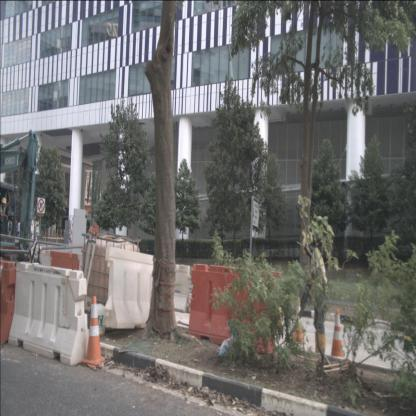barrier: (186, 263, 283, 356), (7, 261, 87, 368), (101, 246, 170, 329), (146, 261, 190, 314), (0, 260, 26, 345), (48, 250, 79, 298), (27, 248, 53, 286)
cone: (79, 294, 106, 366), (328, 308, 346, 363), (288, 297, 306, 345)
